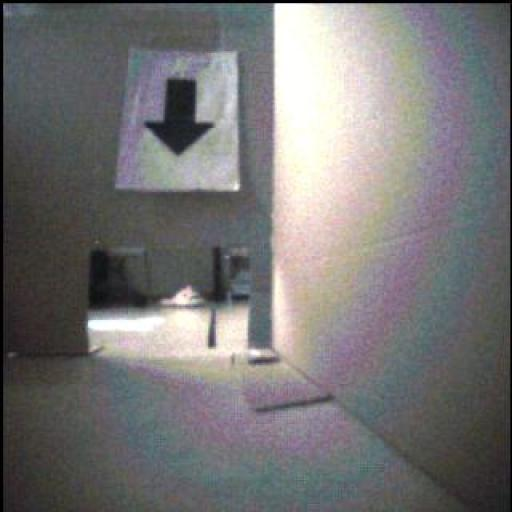arrow: (147, 80, 216, 157)
